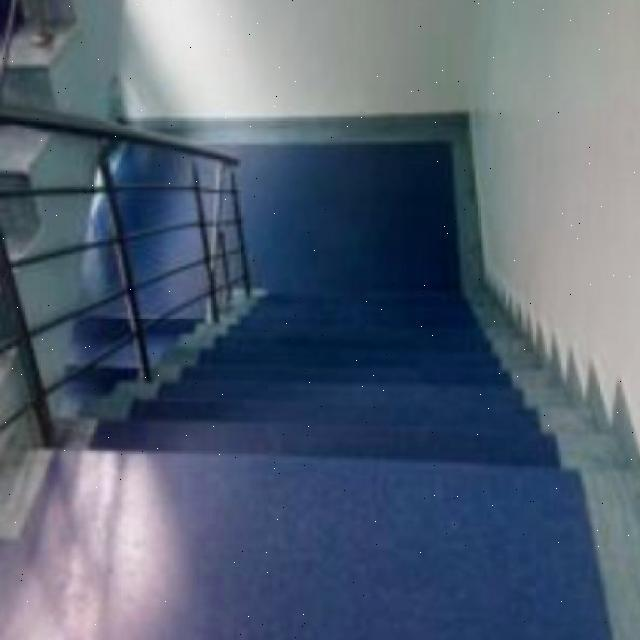stair: (78, 338, 609, 550)
